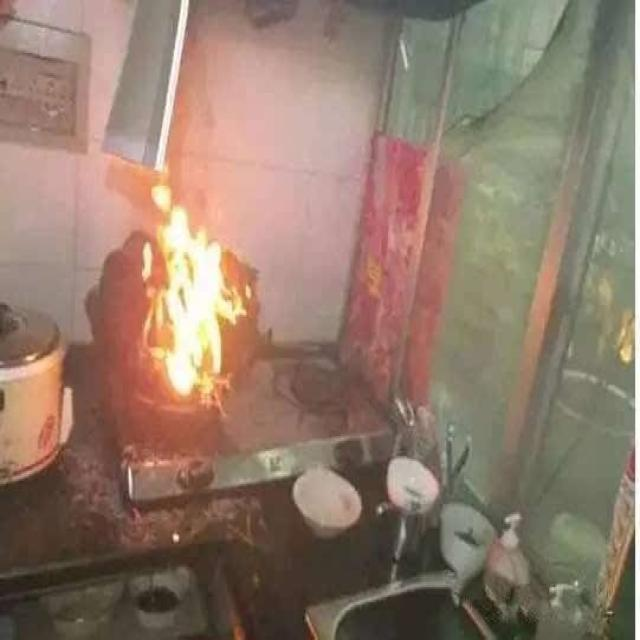fire: (137, 169, 250, 396), (613, 305, 633, 362)
